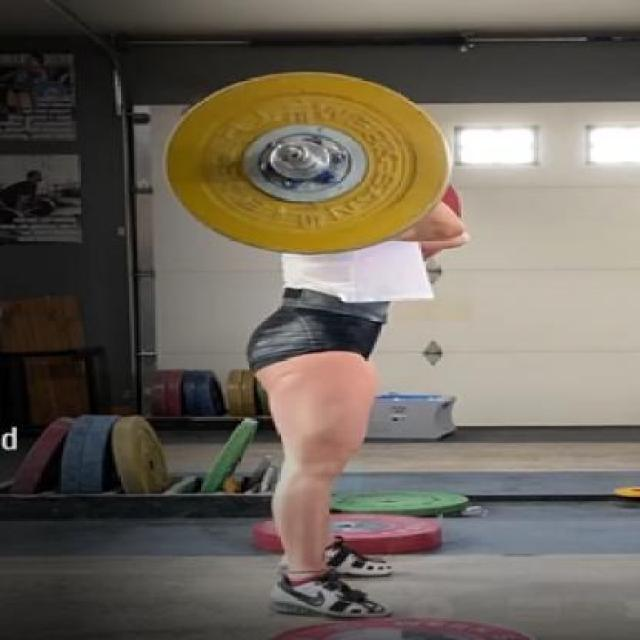barbell: (163, 68, 458, 260)
